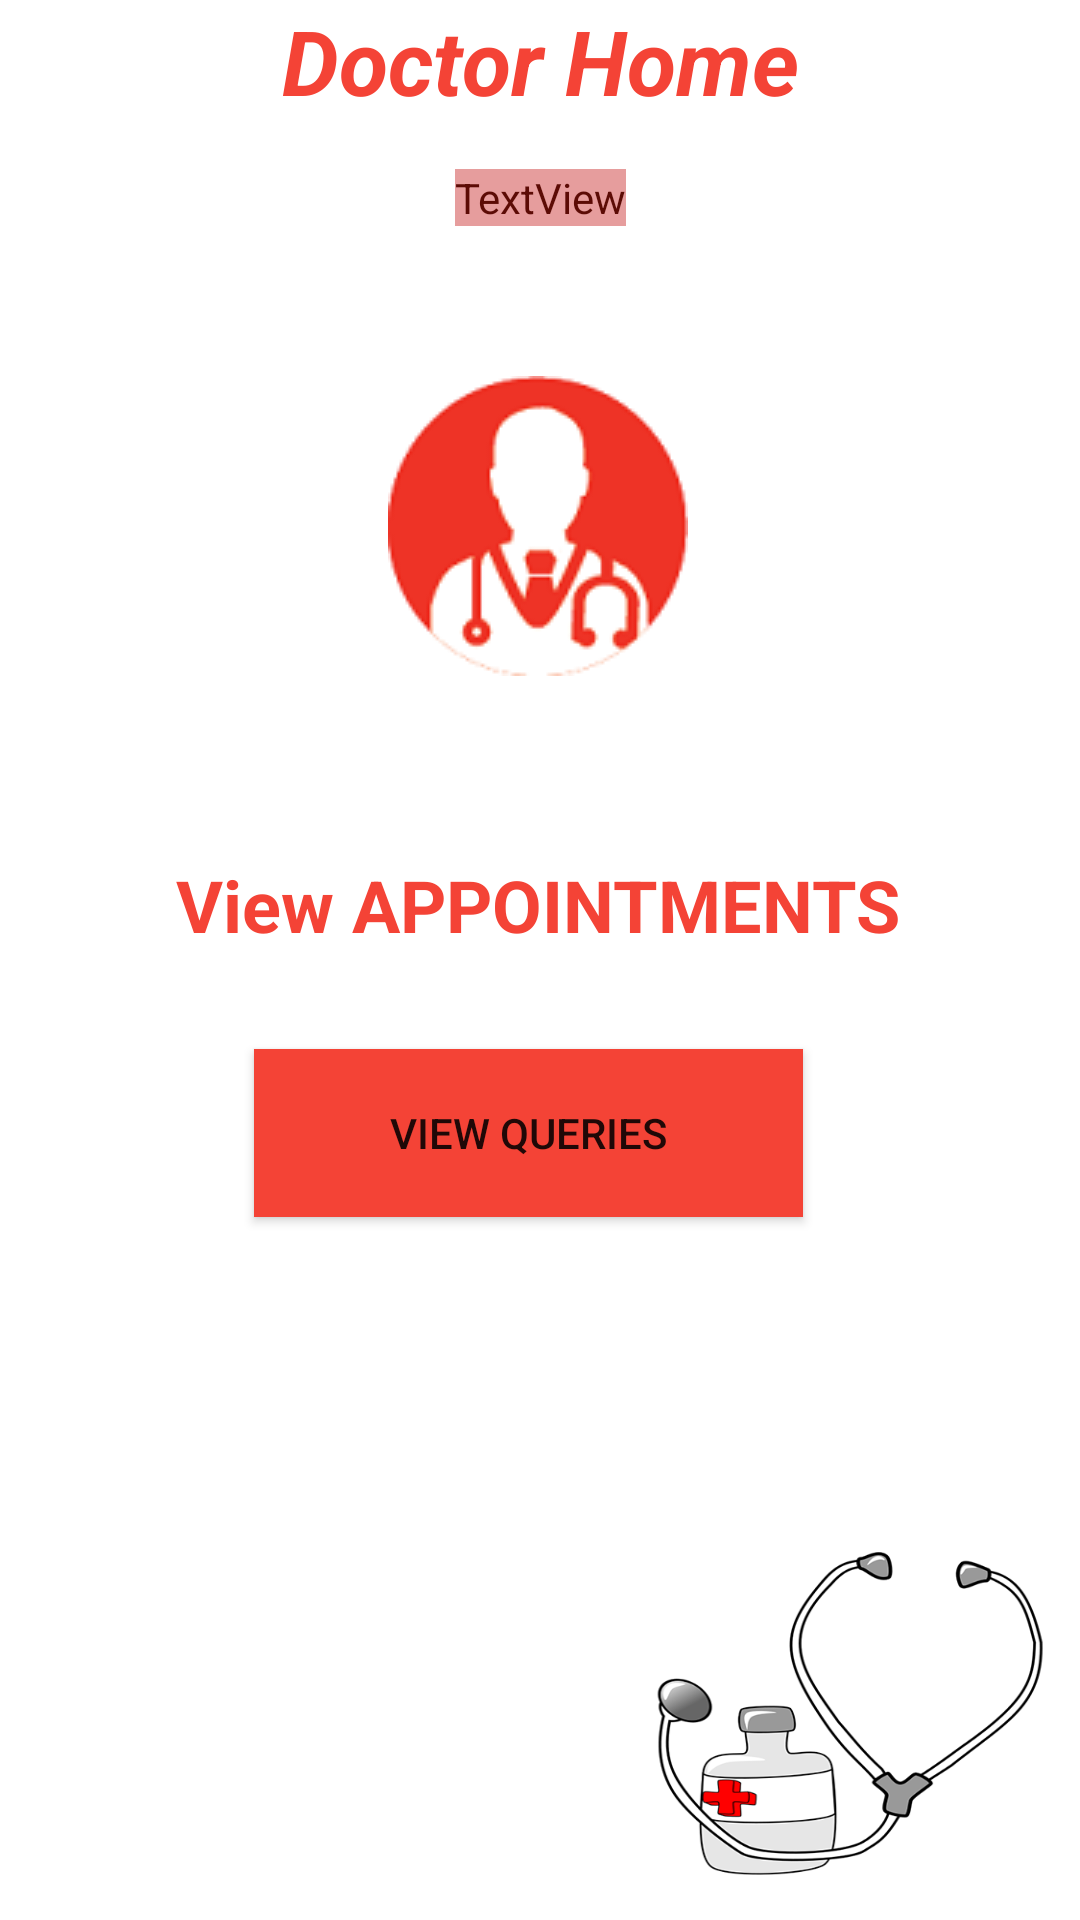

Point at icon controls on the screen. Image size 1080w x 1920h, points as (x,y).
doctorss: (538,526)
